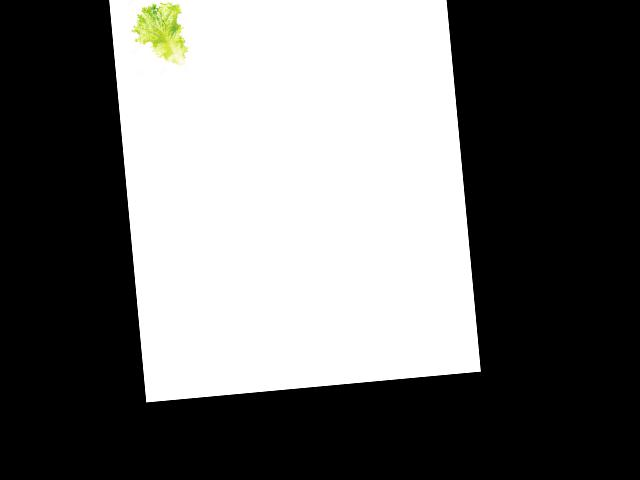lettuce: (130, 0, 187, 70)
